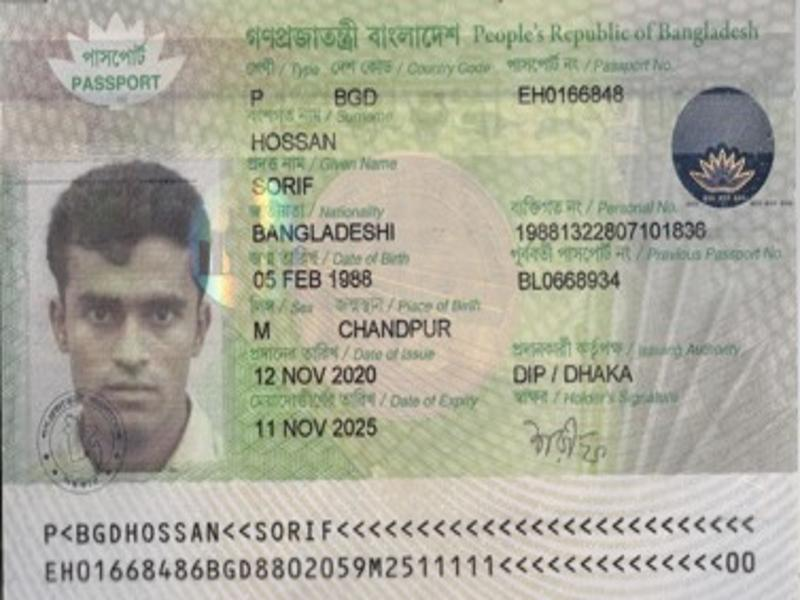passport2: (516, 80, 628, 109)
